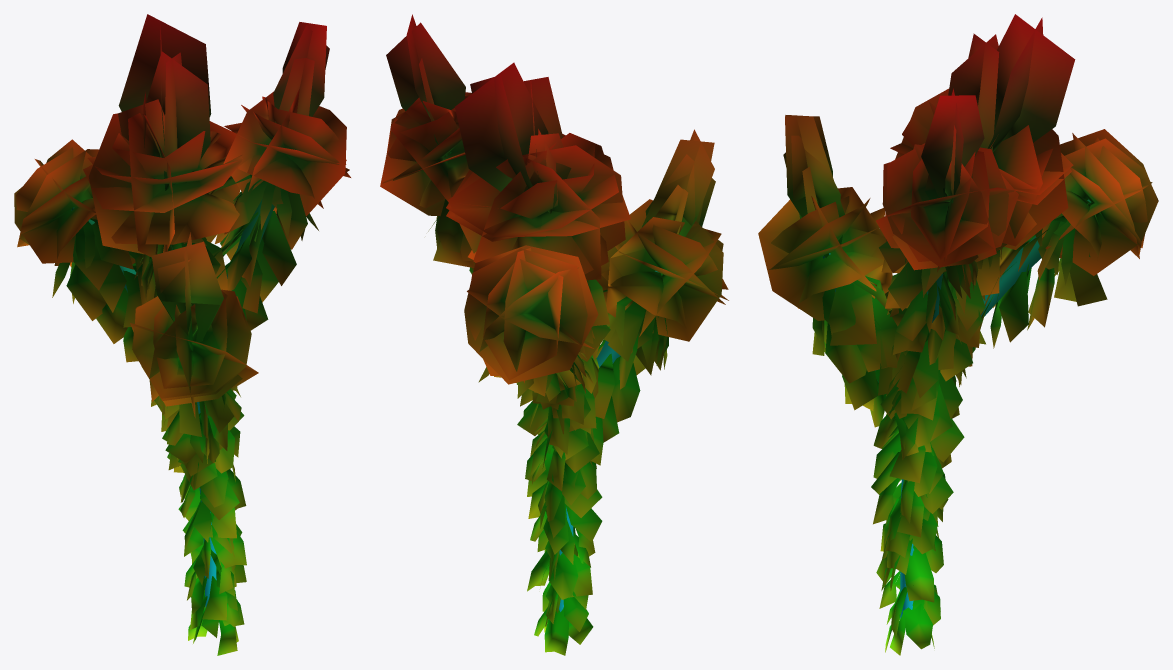
Rendered from Joshua7.fbx.
The picture shows the model from 3 angles, left to right: view 1: azimuth 30°, elevation 25°; view 2: azimuth 150°, elevation 25°; view 3: azimuth 270°, elevation 25°; orthographic projection. The views are drawn at different scales.
Parts seen in each view (by area): view 1: Joshua7_LOD0; view 2: Joshua7_LOD0; view 3: Joshua7_LOD0.
Boxes of the visible parts, left/top/right/bottom form: Joshua7_LOD0: left=14, top=14, right=350, bottom=655; Joshua7_LOD0: left=380, top=14, right=728, bottom=655; Joshua7_LOD0: left=758, top=14, right=1158, bottom=655.
Size of what is drawn, in the model's own units: 194 by 416 by 239.
